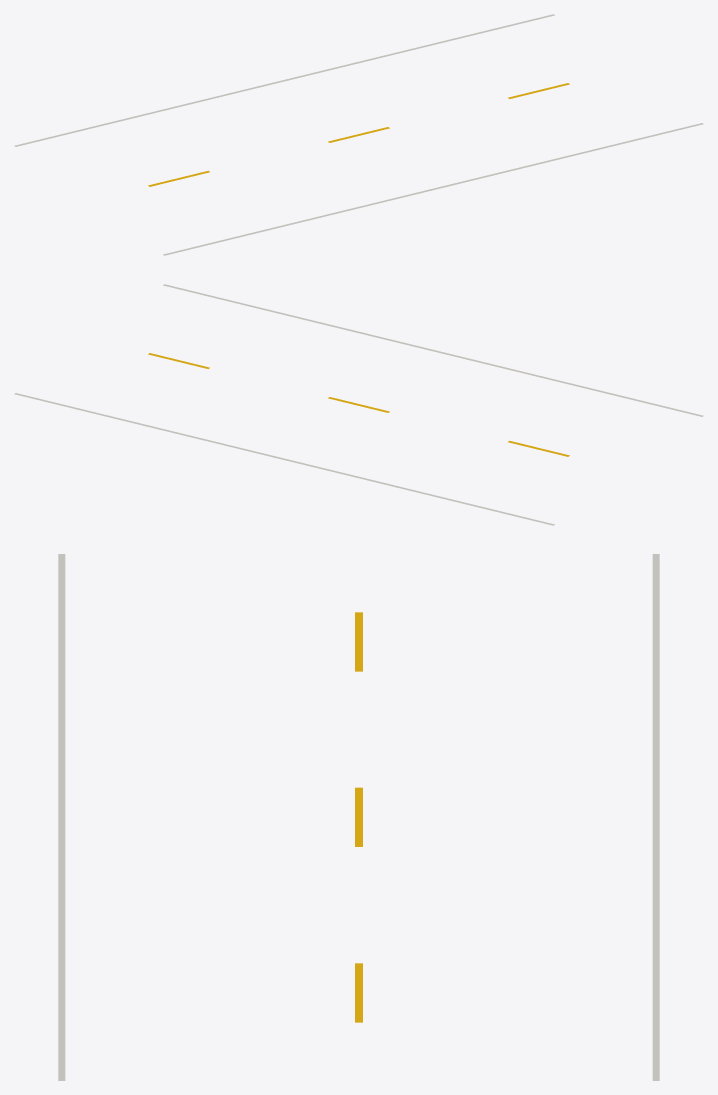
File: ROAD_MARKINGS_MAIN.glb
3 views of the same model, one above another, from view 1: azimuth 30°, elevation 25°; view 2: azimuth 150°, elevation 25°; view 3: azimuth 270°, elevation 25° (orthographic). The views are drawn at different scales.
Parts seen in each view (by area): view 1: CIVRUM_GAME_ROAD_MARKINGS_MAIN; view 2: CIVRUM_GAME_ROAD_MARKINGS_MAIN; view 3: CIVRUM_GAME_ROAD_MARKINGS_MAIN.
Part boxes in pixels (bbox=[...]): CIVRUM_GAME_ROAD_MARKINGS_MAIN: bbox=[14, 14, 703, 255]; CIVRUM_GAME_ROAD_MARKINGS_MAIN: bbox=[14, 284, 703, 525]; CIVRUM_GAME_ROAD_MARKINGS_MAIN: bbox=[58, 554, 659, 1080].
Bounding box in the file's own units: 20 × 0.001 × 9.65.
